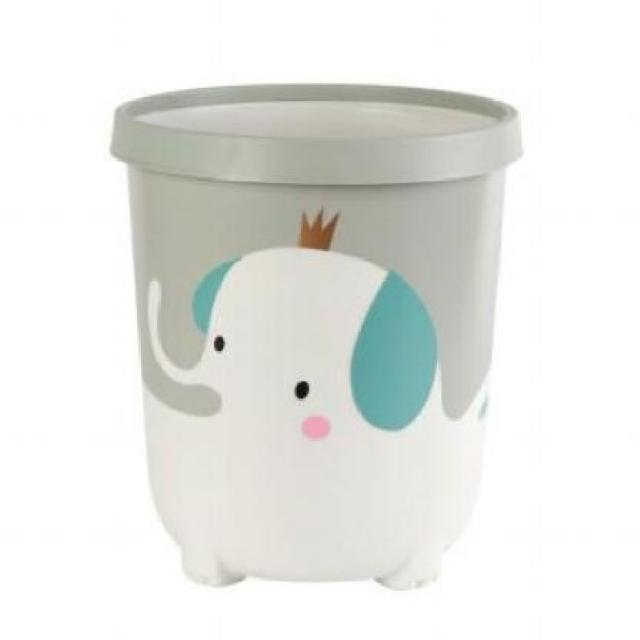dustbin: (102, 75, 530, 601)
